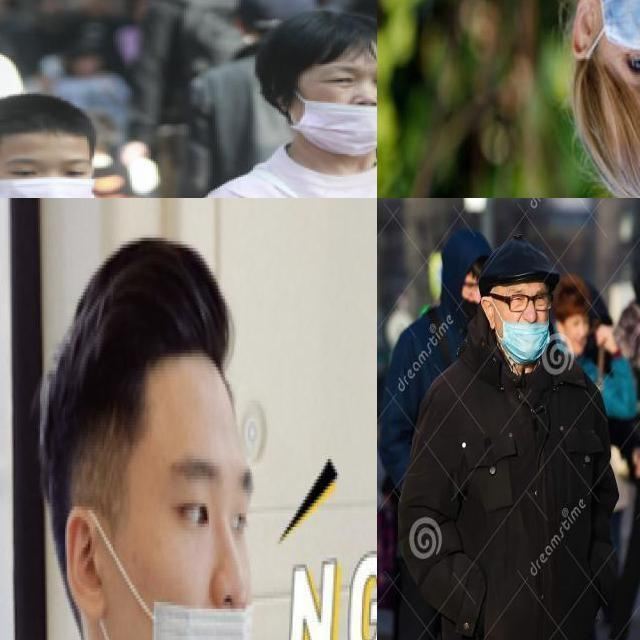hairnet: (147, 545, 254, 639), (292, 85, 380, 155), (494, 308, 550, 362)
